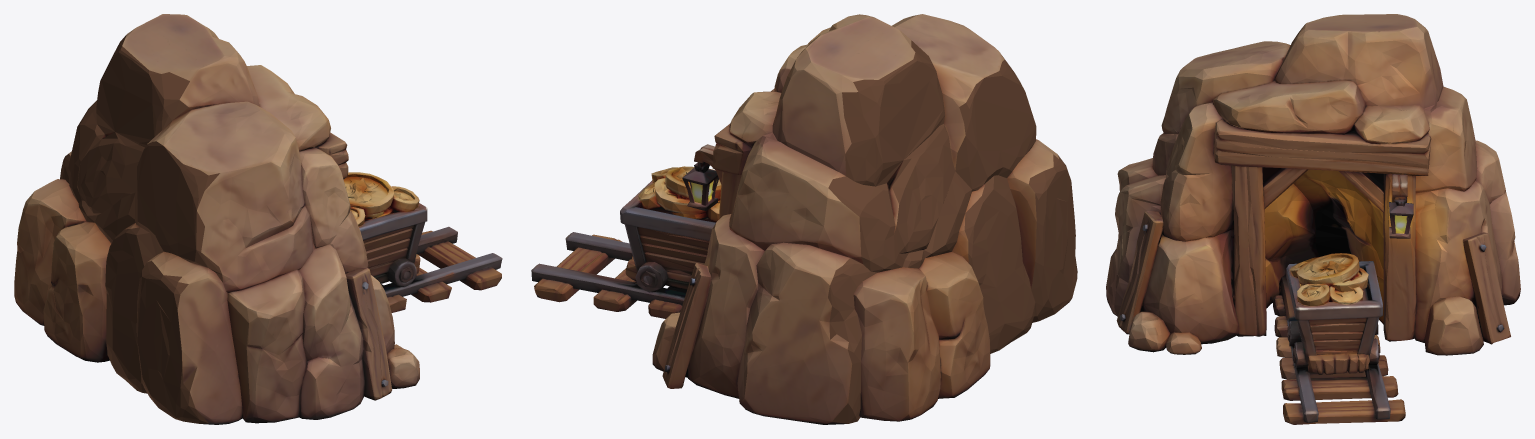
Rendered from Gold_mine.fbx.
3 views of the same model, side by side, from view 1: azimuth 30°, elevation 25°; view 2: azimuth 150°, elevation 25°; view 3: azimuth 270°, elevation 25° (orthographic). The views are drawn at different scales.
Parts seen in each view (by area): view 1: Gold_building; view 2: Gold_building; view 3: Gold_building.
Part boxes in pixels (x1=…): Gold_building: x1=14, y1=14, x2=502, y2=424; Gold_building: x1=531, y1=14, x2=1077, y2=424; Gold_building: x1=1106, y1=14, x2=1520, y2=424.
Size of the model in its own units: 166 by 113 by 154.
1 material, 1 textured.
